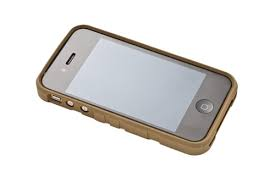iphone: (31, 19, 238, 154)
